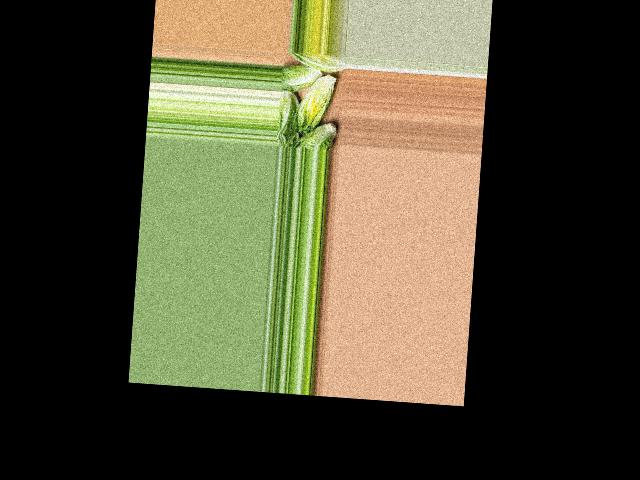lettuce: (289, 51, 345, 74)
